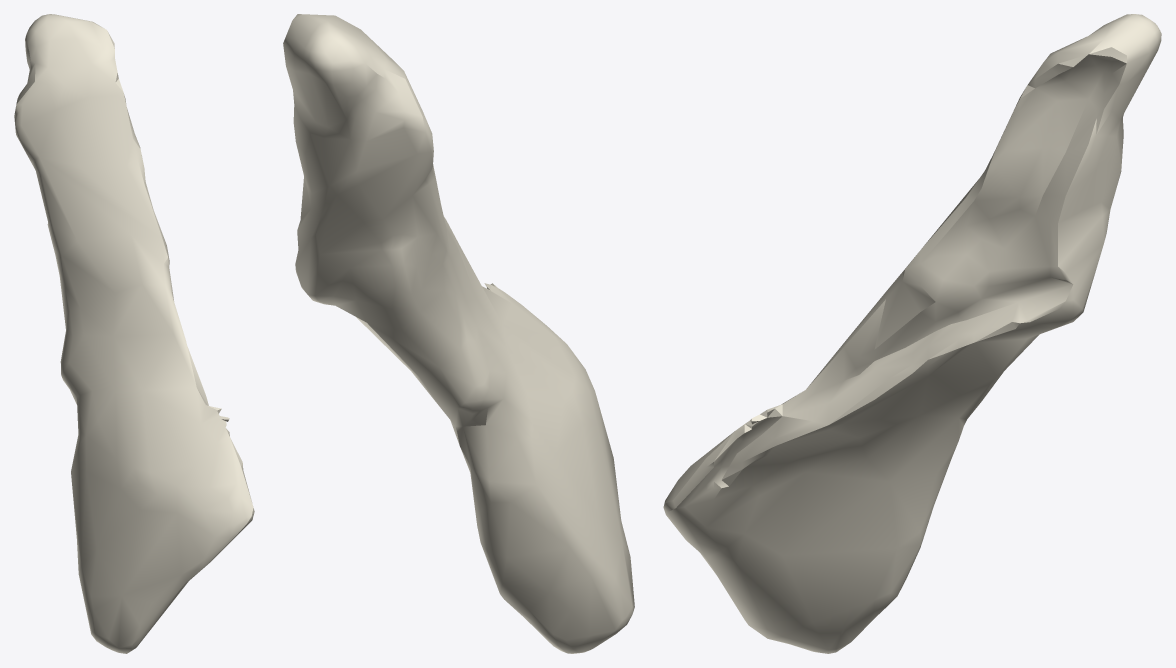
File: fma53647.glb
3 renders of one model, left to right at view 1: azimuth 30°, elevation 25°; view 2: azimuth 150°, elevation 25°; view 3: azimuth 270°, elevation 25°, orthographic. The views are drawn at different scales.
Parts seen in each view (by area): view 1: FMA53647; view 2: FMA53647; view 3: FMA53647.
Part boxes in pixels (x1,y1,x2,y2): FMA53647: [14, 14, 254, 653]; FMA53647: [283, 14, 634, 653]; FMA53647: [663, 14, 1161, 653].
Bounding box in the file's own units: 0.0083 × 0.0304 × 0.0203.
